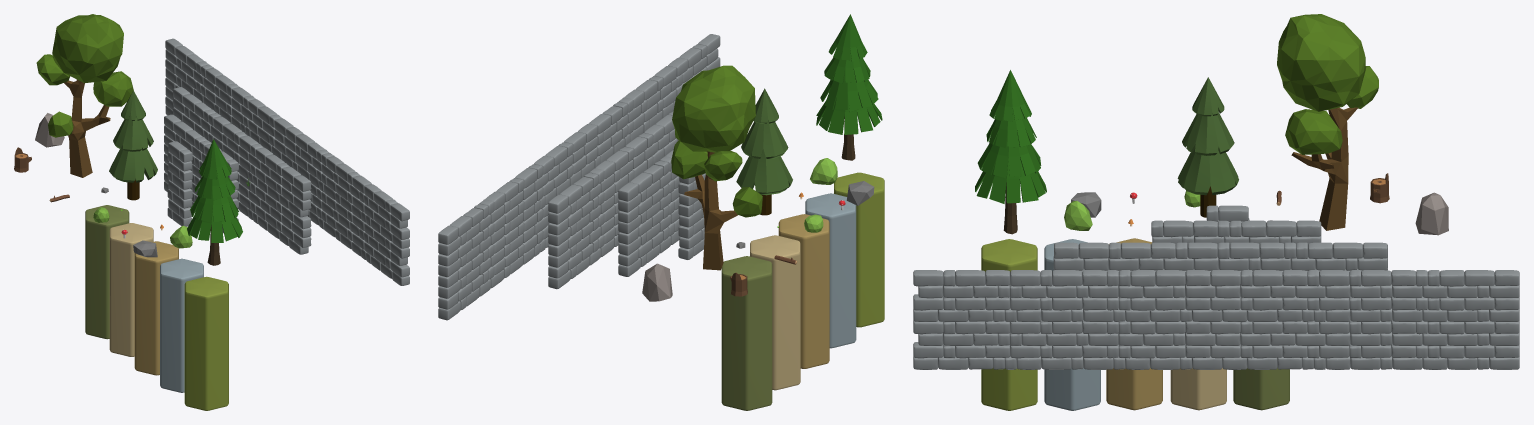
Rendered from forestM.fbx.
3 views of the same model, side by side, from view 1: azimuth 30°, elevation 25°; view 2: azimuth 150°, elevation 25°; view 3: azimuth 270°, elevation 25° (orthographic). The views are drawn at different scales.
Parts seen in each view (by area): view 1: polySurface393, polySurface190, Tree1, Land_Light__Green, Tree3, Land_Light_Brown, Land_Rock, Land_brown, Land_Green, pCylinder1, polySurface76, polySurface2 (+2 smaller); view 2: polySurface393, Tree1, polySurface190, Land_Green, polySurface76, Tree3, Land_Light_Brown, Land_brown, Land_Rock, Land_Light__Green, pCylinder1, polySurface2 (+3 smaller); view 3: polySurface393, Tree1, polySurface190, Tree3, pCylinder1, polySurface76, Land_Light__Green, Land_Rock, Land_brown, Land_Light_Brown, Land_Green, Rock4 (+2 smaller).
Part boxes in pixels (x1,y1,x2,y2): polySurface393: [165, 38, 409, 285]; polySurface190: [173, 87, 311, 254]; Tree1: [36, 14, 133, 177]; Land_Light__Green: [184, 276, 228, 410]; Tree3: [187, 139, 242, 265]; Land_Light_Brown: [109, 223, 153, 356]; Land_Rock: [160, 258, 203, 392]; Land_brown: [134, 241, 178, 375]; Land_Green: [85, 205, 129, 339]; pCylinder1: [109, 90, 157, 200]; polySurface76: [164, 114, 238, 233]; polySurface2: [167, 141, 192, 226]; polySurface393: [438, 34, 720, 320]; Tree1: [671, 65, 762, 270]; polySurface190: [548, 111, 678, 289]; Land_Green: [721, 256, 772, 410]; polySurface76: [618, 150, 680, 276]; Tree3: [816, 14, 882, 160]; Land_Light_Brown: [750, 235, 800, 390]; Land_brown: [778, 214, 829, 368]; Land_Rock: [805, 193, 856, 348]; Land_Light__Green: [834, 172, 884, 327]; pCylinder1: [736, 88, 792, 215]; polySurface2: [678, 173, 705, 259]; polySurface393: [913, 270, 1519, 369]; Tree1: [1277, 14, 1378, 230]; polySurface190: [1053, 242, 1387, 271]; Tree3: [975, 70, 1046, 234]; pCylinder1: [1177, 77, 1238, 217]; polySurface76: [1151, 220, 1321, 244]; Land_Light__Green: [981, 239, 1037, 410]; Land_Rock: [1044, 239, 1100, 410]; Land_brown: [1106, 238, 1162, 410]; Land_Light_Brown: [1170, 368, 1226, 410]; Land_Green: [1233, 368, 1289, 410]; Rock4: [1415, 192, 1448, 235].
Bounding box in the file's own units: 296 × 391 × 558.
